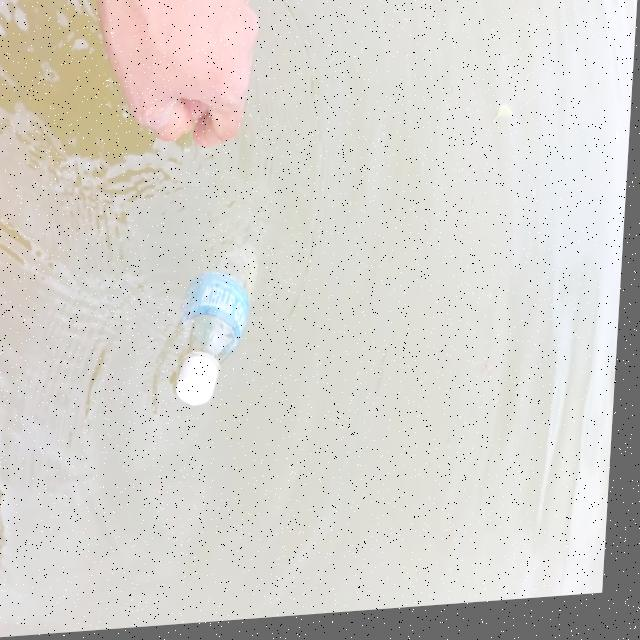waterbottle: (126, 200, 285, 438)
